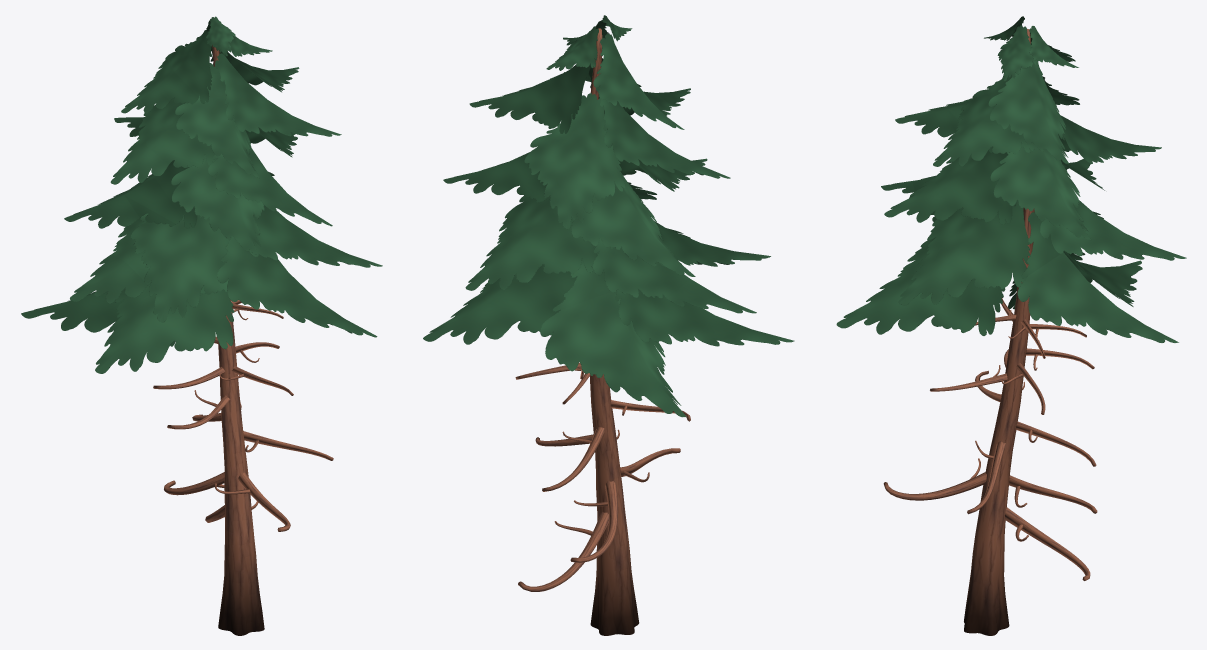
The model's file is Yew_1.glb.
The picture shows the model from 3 angles, left to right: view 1: azimuth 30°, elevation 25°; view 2: azimuth 150°, elevation 25°; view 3: azimuth 270°, elevation 25°; orthographic projection. The views are drawn at different scales.
Visible parts, largest first — view 1: Pine_3; view 2: Pine_3; view 3: Pine_3.
Part boxes in pixels (bbox=[...]): Pine_3: bbox=[21, 16, 382, 635]; Pine_3: bbox=[423, 15, 794, 635]; Pine_3: bbox=[836, 16, 1186, 635].
Size of the model in its own units: 3.61 by 7.39 by 4.
2 materials, 2 textured.
